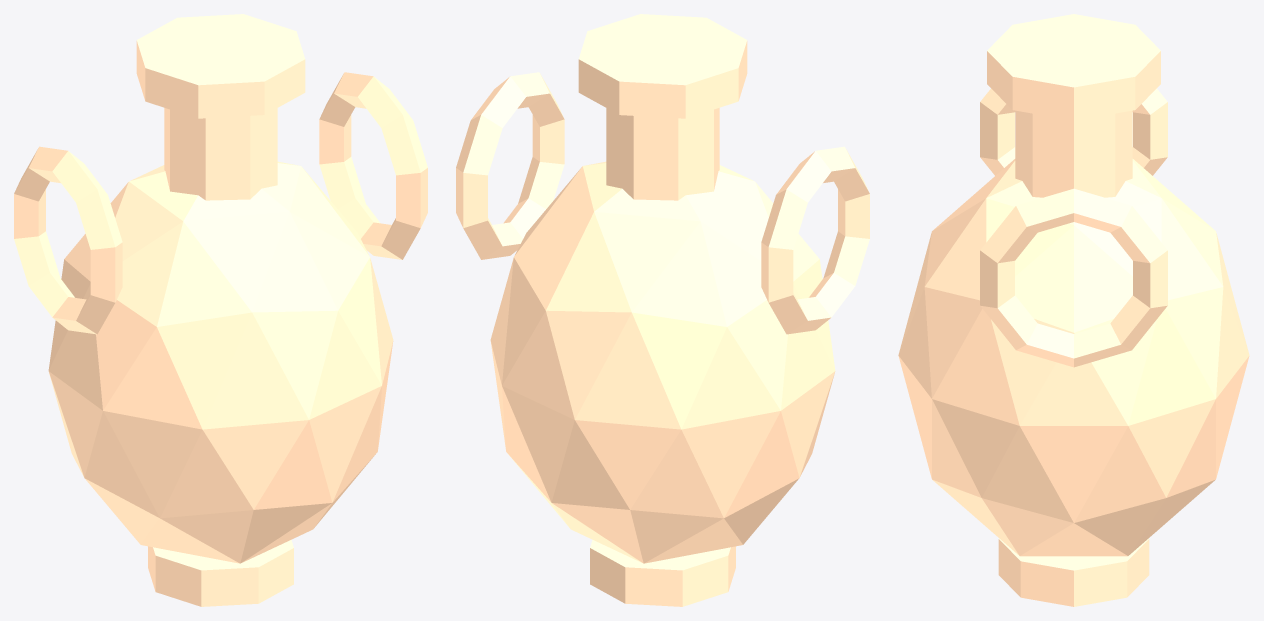
Rendered from Reliquia_Anfora.fbx.
The picture shows the model from 3 angles, left to right: view 1: azimuth 30°, elevation 25°; view 2: azimuth 150°, elevation 25°; view 3: azimuth 270°, elevation 25°; orthographic projection.
Visible parts, largest first — view 1: Reliquia_Anfora; view 2: Reliquia_Anfora; view 3: Reliquia_Anfora.
Part boxes in pixels (x1,y1,x2,y2): Reliquia_Anfora: (14, 14, 427, 606); Reliquia_Anfora: (456, 14, 869, 606); Reliquia_Anfora: (898, 14, 1249, 606).
Bounding box in the file's own units: 23.2 × 34.6 × 21.
